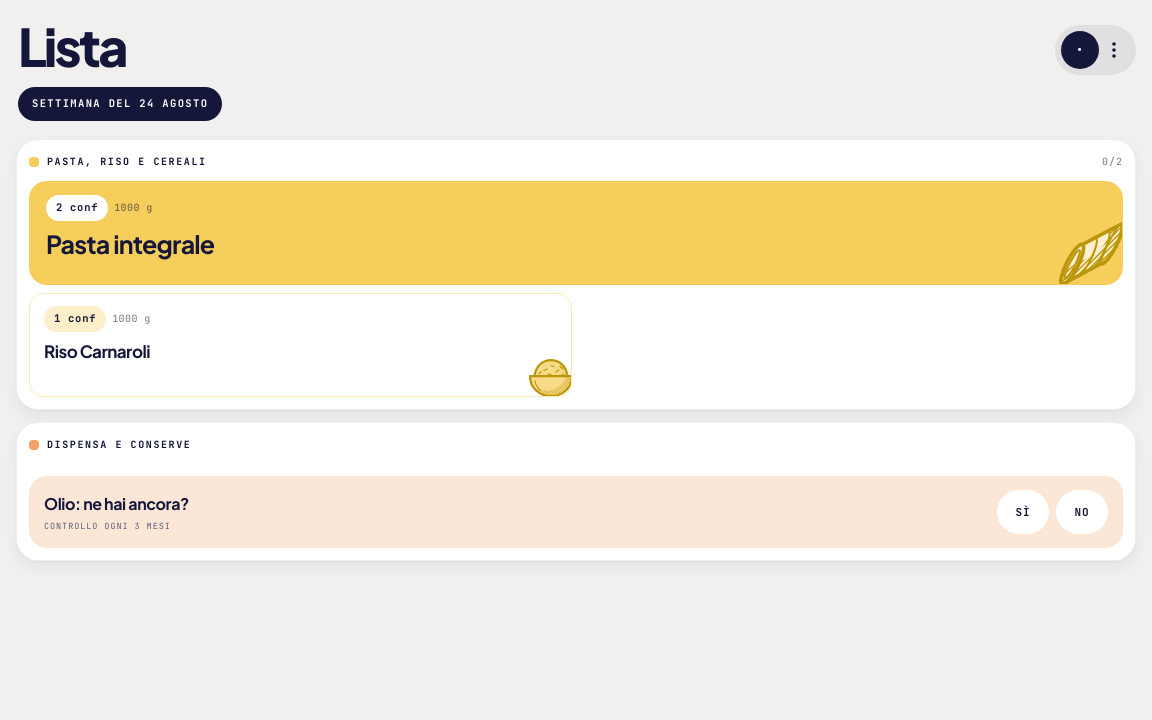
Test: Lista › "SÌ" su un controllo lo fa sparire senza toccare il server per il resto della lista
Expected: the text "Olio: ne hai ancora?" is shown, [44,493,189,514]
Click the button with aria-label "Sì, hai ancora Olio" at (1023, 512), box [997,490,1049,534]
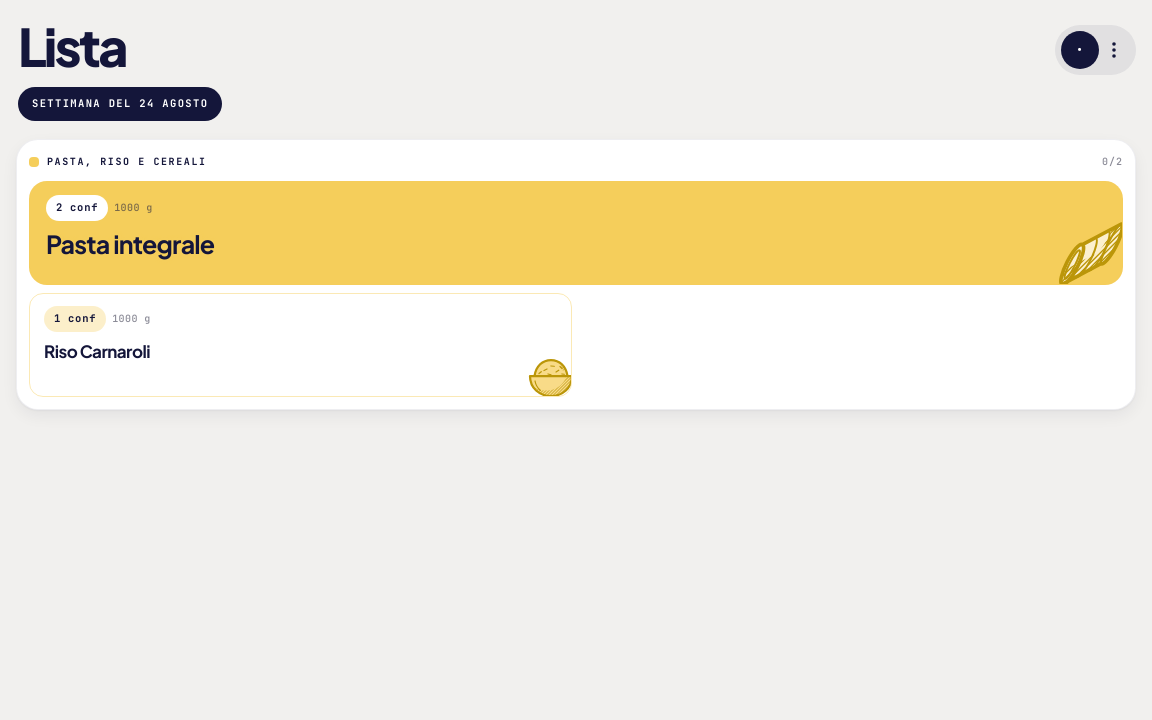
Expected: the text "Olio: ne hai ancora?" is gone
